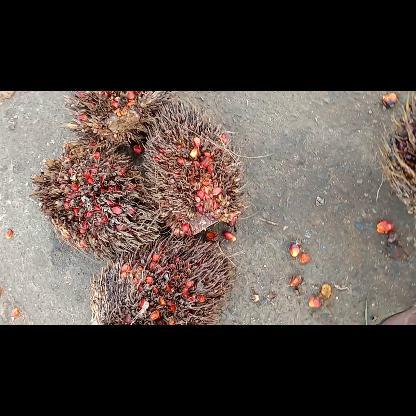Terlalu masak: (27, 138, 171, 268), (137, 96, 249, 240), (84, 232, 240, 324), (57, 91, 178, 159)
